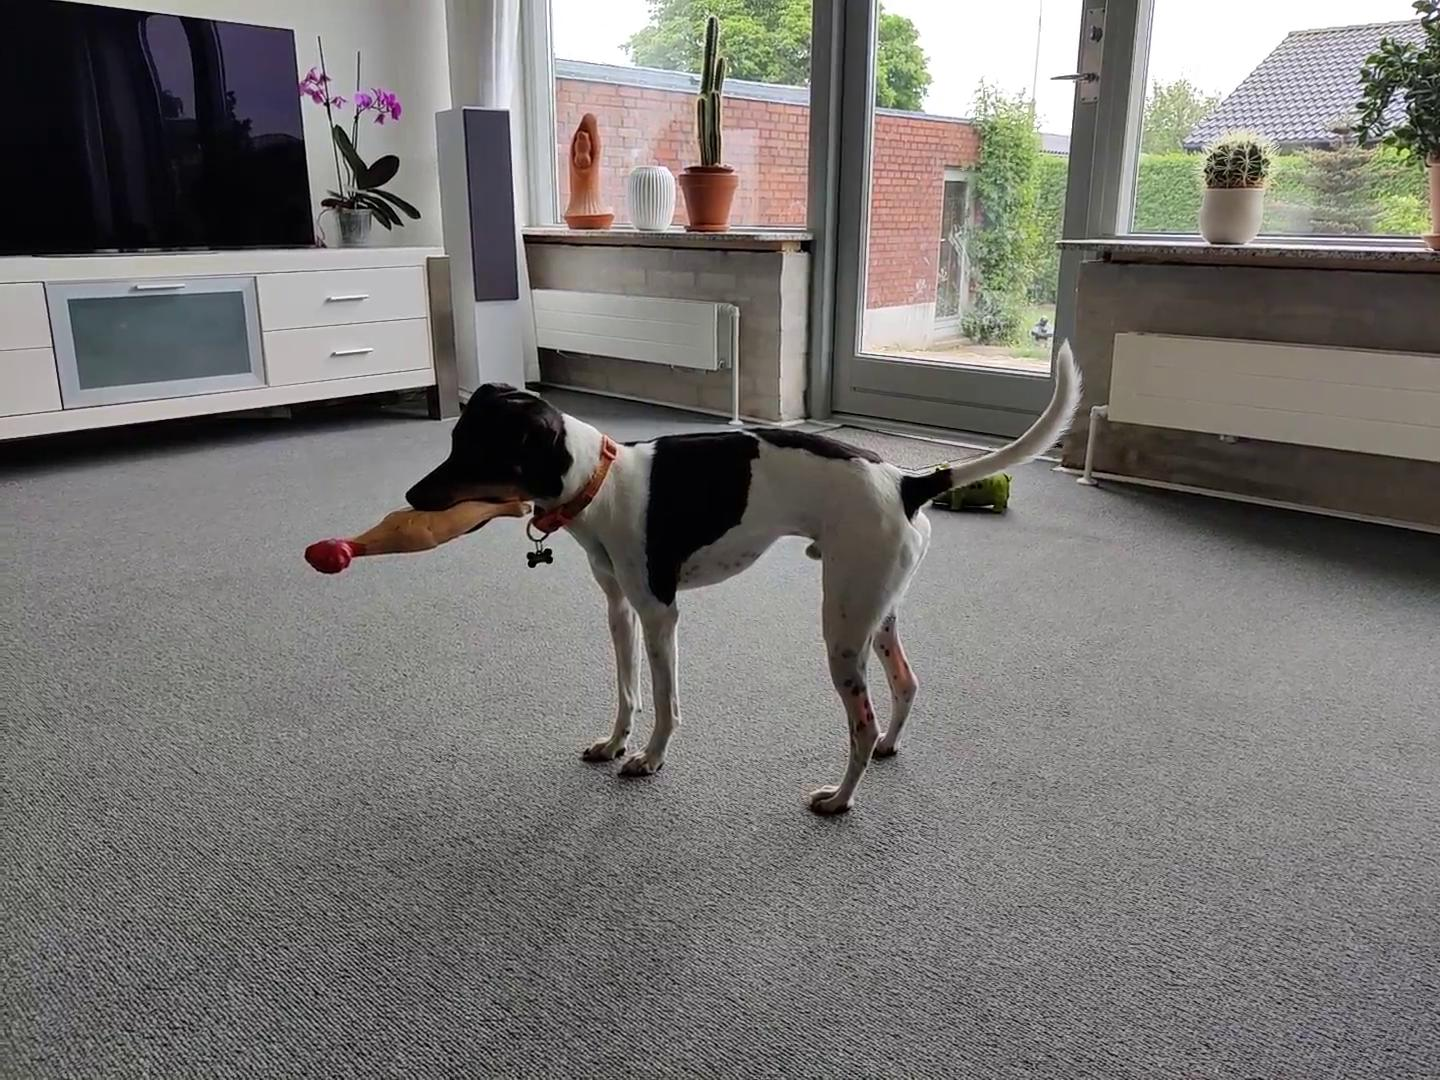Dog: (403, 338, 1084, 819)
